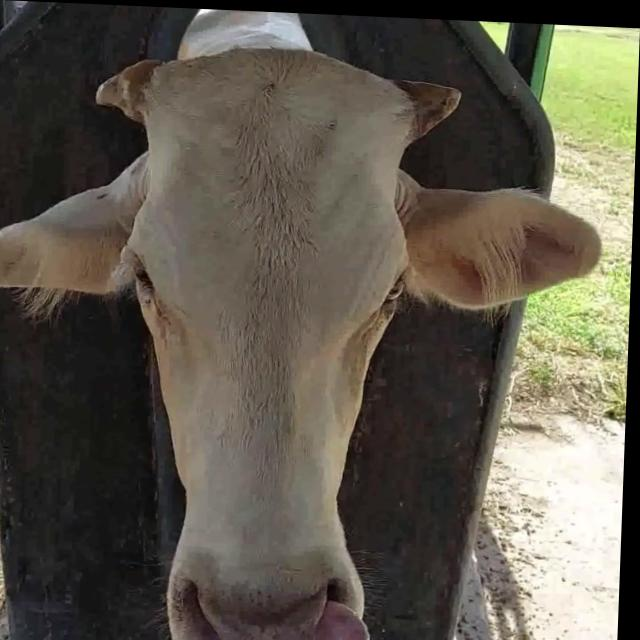cowFace: (113, 38, 416, 640)
